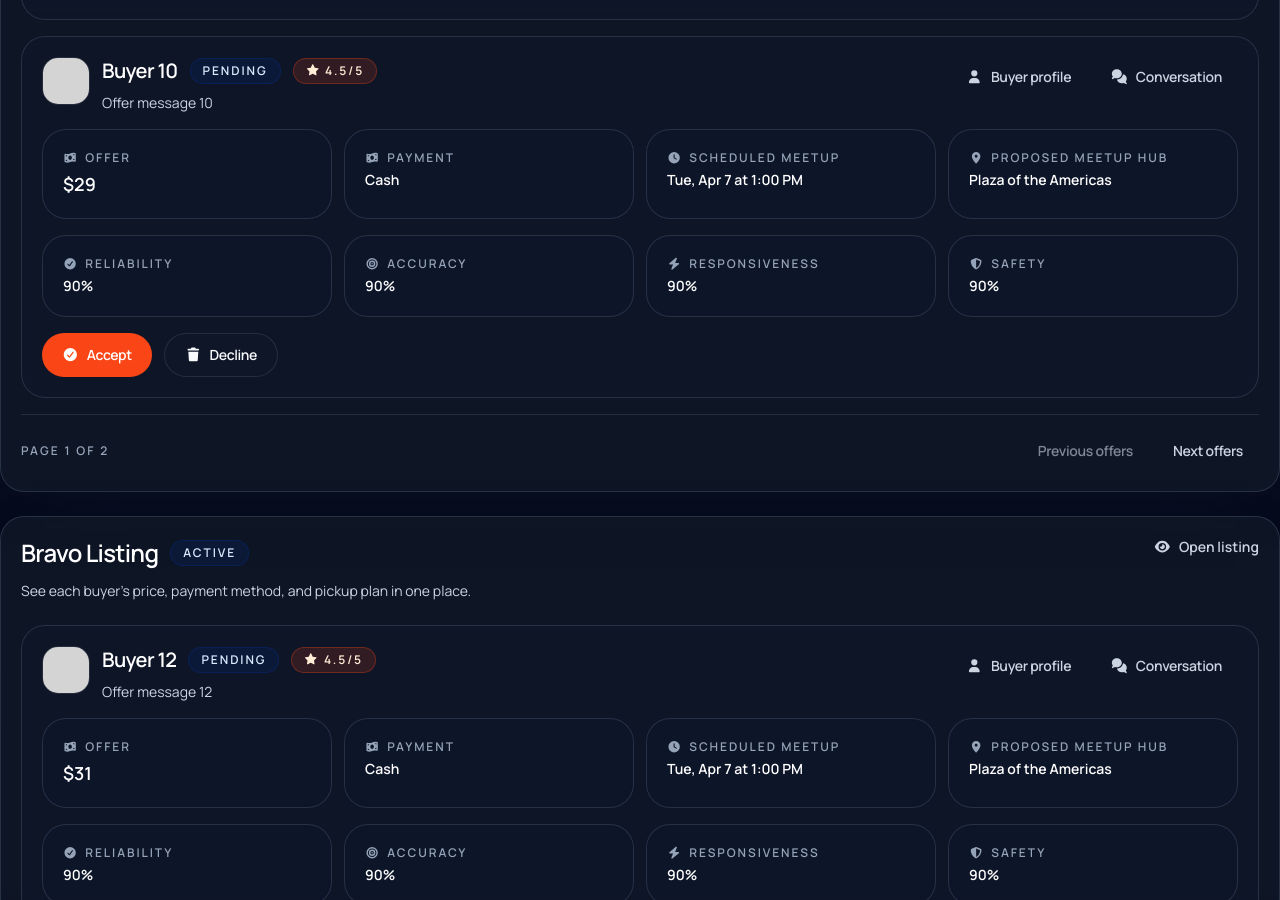
it: seller mode paginates listing groups and offers within a listing
(page scrolled)
Expected: the text "Foxtrot Listing" is not shown
Expected: the heading "Buyer 10" is shown, [102,57,178,85]
Click the button "Next offers".
click(1208, 451)  # box [1157,431,1259,471]
(page scrolled)
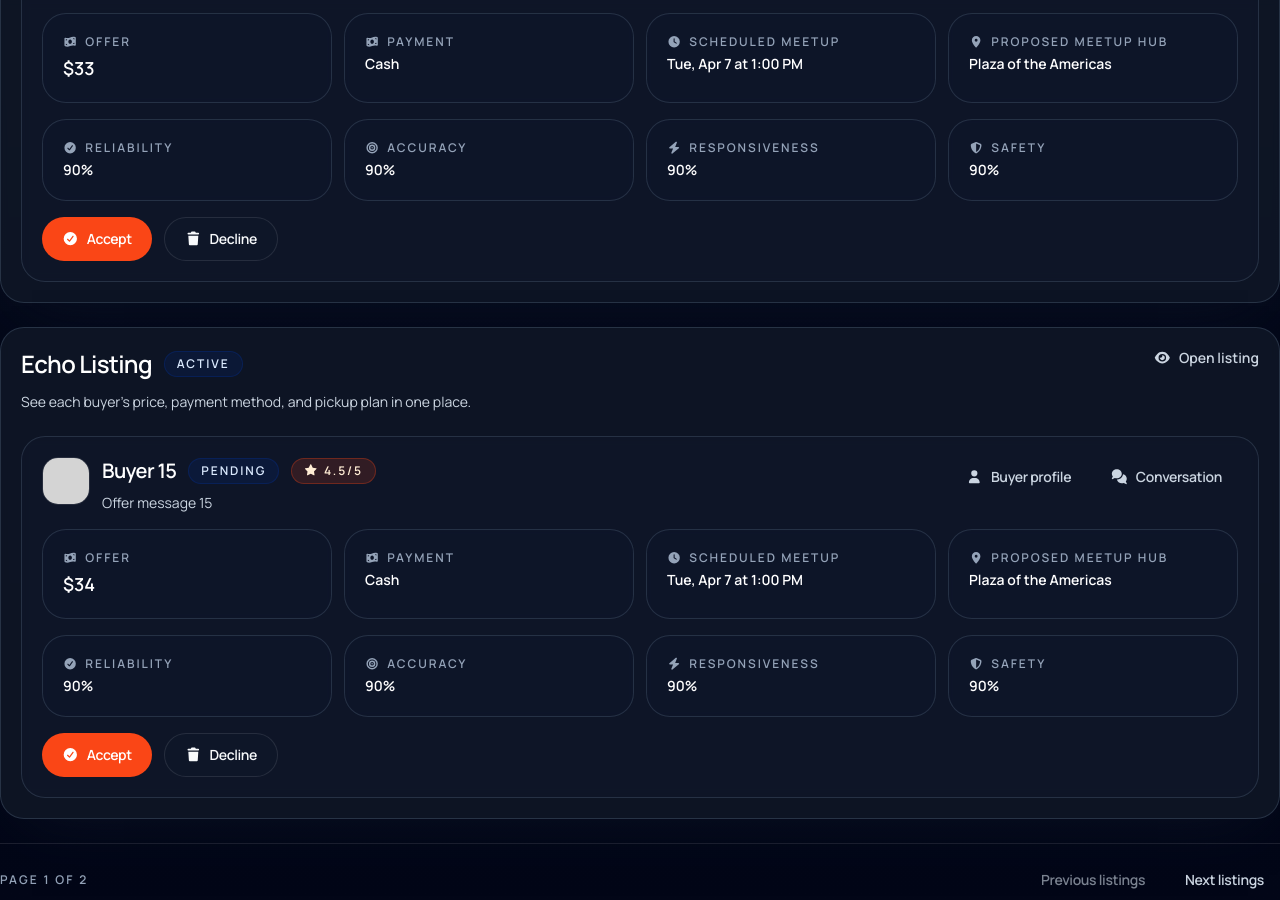
Click the button "Next listings".
click(1225, 880)  # box [1169,860,1279,899]
(page scrolled)
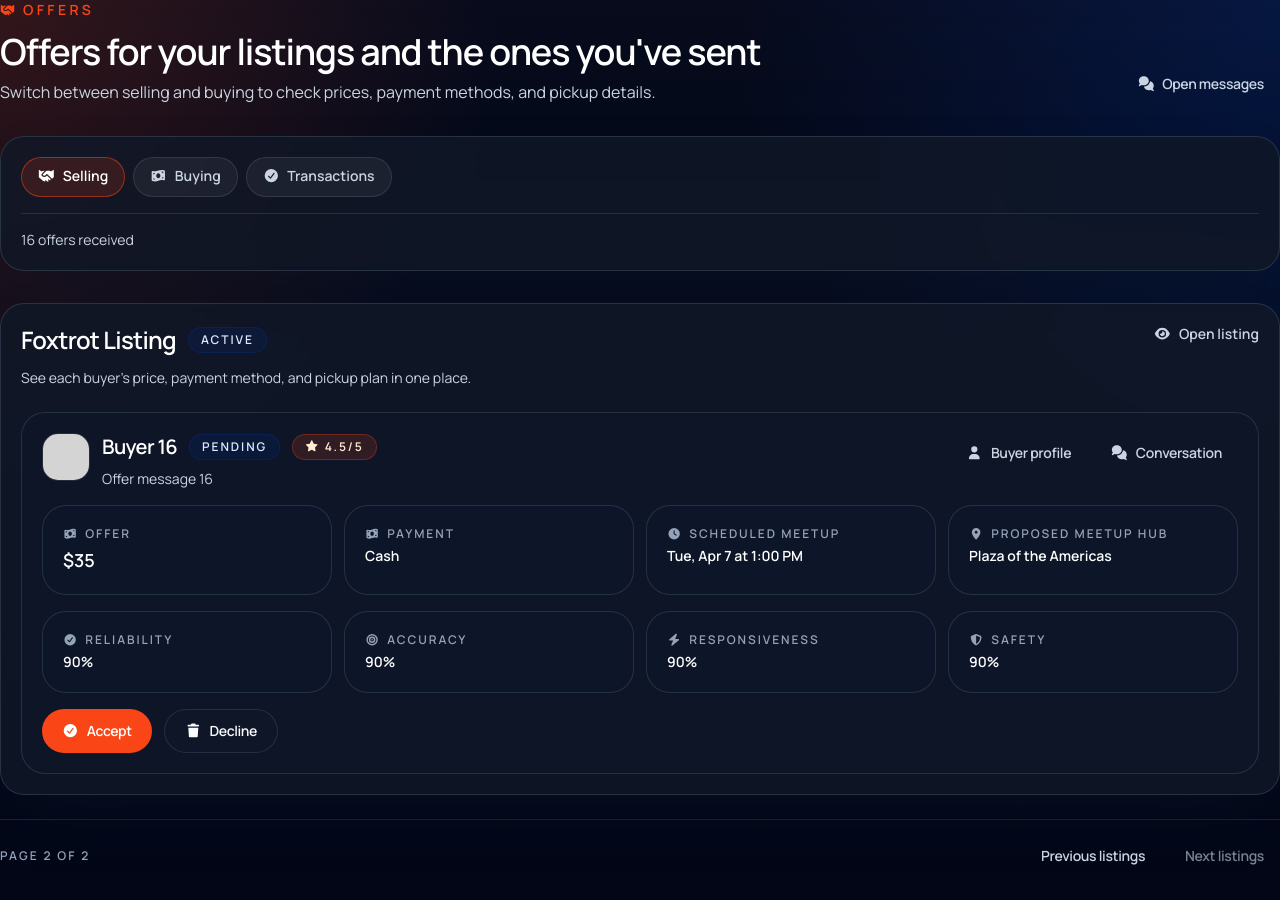
Now the heading "Foxtrot Listing" is shown, box [21,324,176,356]
